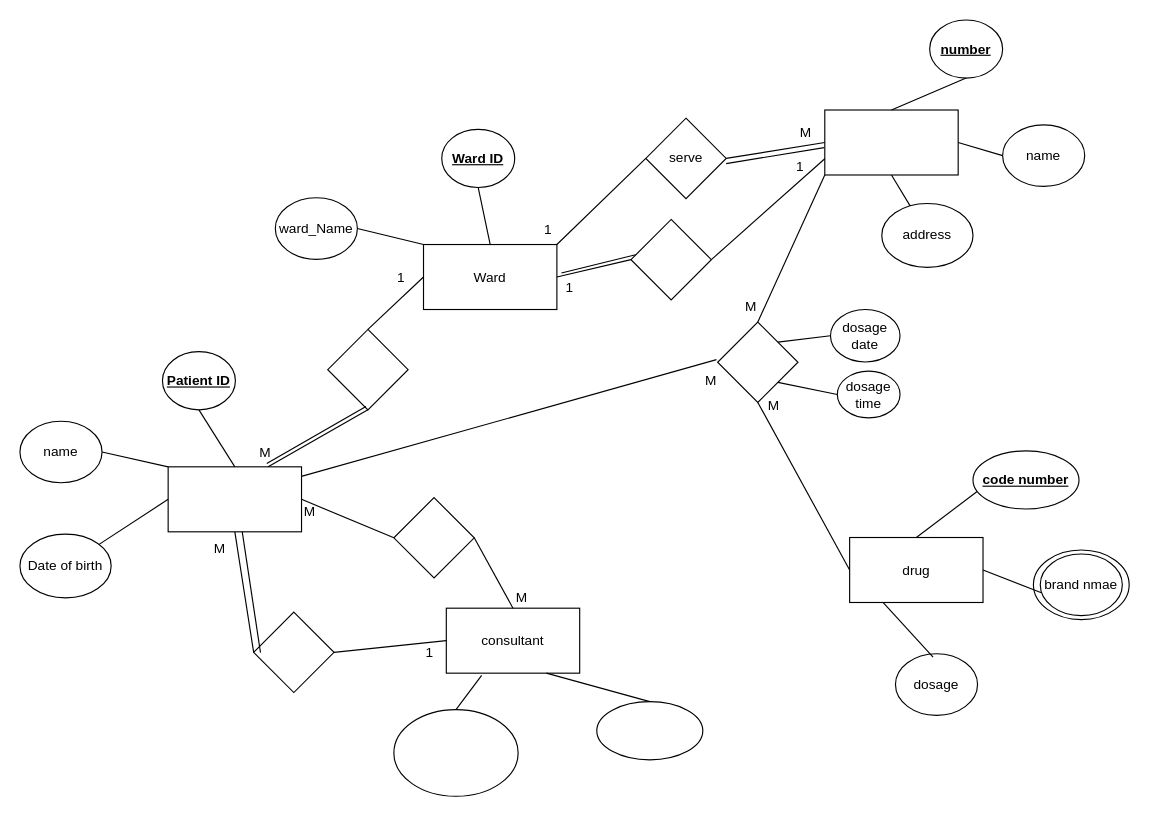
The diagram is 1149 pixels wide and 816 high, and some of its shapes have lost their labels. The centre of each missing label's shape, as x and y in pixels:
"assign" belongs at [293,652].
"consultant _Name" belongs at [455,752].
"consultant ID" belongs at [649,730].
"examin" belongs at [433,537].
"give" belongs at [757,361].
"host" belongs at [367,369].
"nurse" belongs at [891,142].
"patient" belongs at [234,499].
"supervise" belongs at [670,259].
